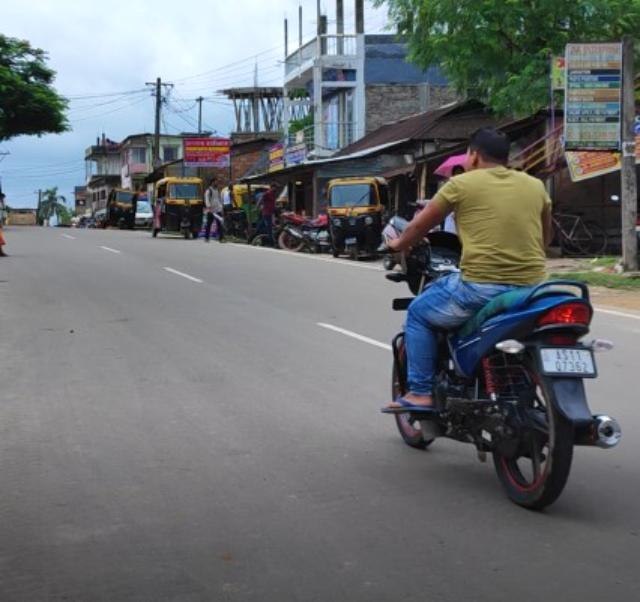licensePlate: (541, 348, 596, 380)
motorcycle: (382, 123, 621, 512)
withoutHelmet: (462, 130, 515, 171)
